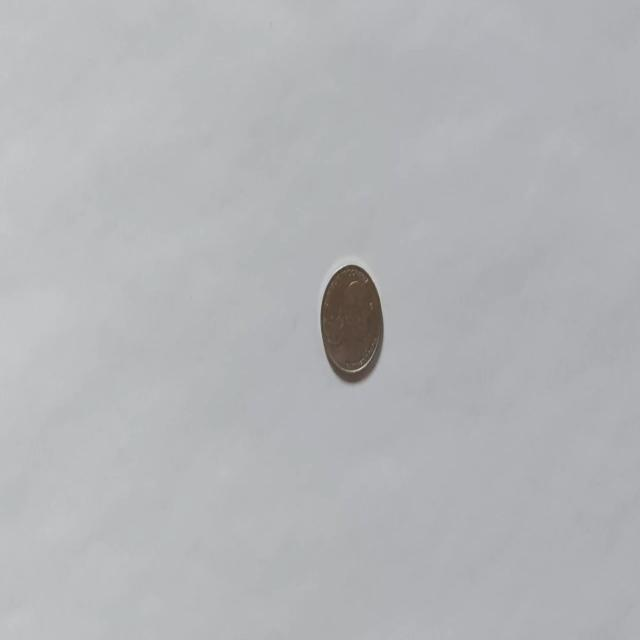seribu rupiah koin: (319, 260, 384, 380)
